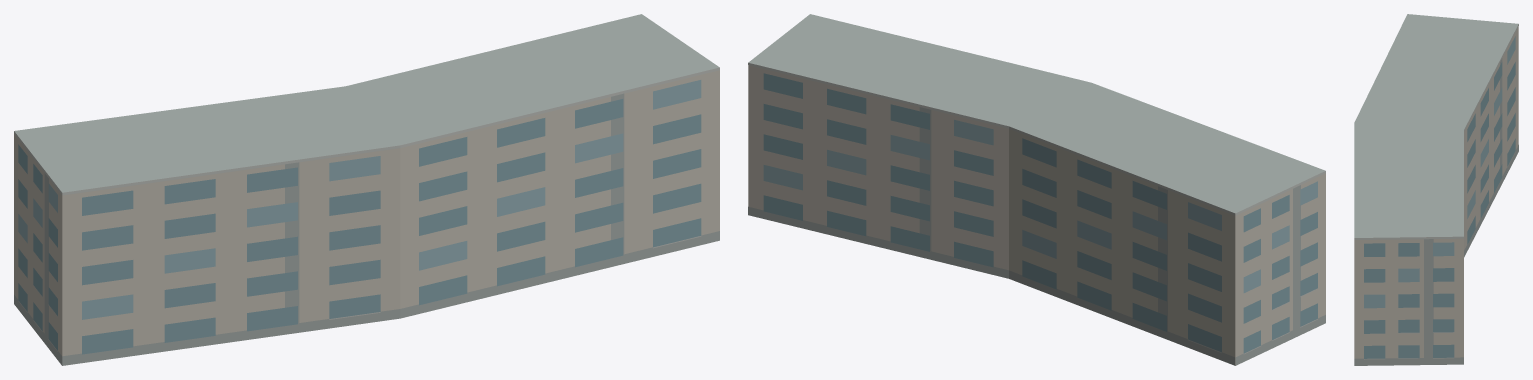
The model's file is residential-7e6103f6-67af-4891-9f41-72770a70c656.glb.
3 views of the same model, side by side, from view 1: azimuth 30°, elevation 25°; view 2: azimuth 150°, elevation 25°; view 3: azimuth 270°, elevation 25° (orthographic). The views are drawn at different scales.
Parts seen in each view (by area): view 1: residential-7e6103f6-67af-4891-9f41-72770a70c656.tmp; view 2: residential-7e6103f6-67af-4891-9f41-72770a70c656.tmp; view 3: residential-7e6103f6-67af-4891-9f41-72770a70c656.tmp.
Boxes of the visible parts, x1,y1,x2,y2 form: residential-7e6103f6-67af-4891-9f41-72770a70c656.tmp: (14, 14, 719, 365); residential-7e6103f6-67af-4891-9f41-72770a70c656.tmp: (748, 14, 1325, 365); residential-7e6103f6-67af-4891-9f41-72770a70c656.tmp: (1354, 14, 1518, 365).
Bounding box in the file's own units: 57.3 × 15.25 × 17.8.
